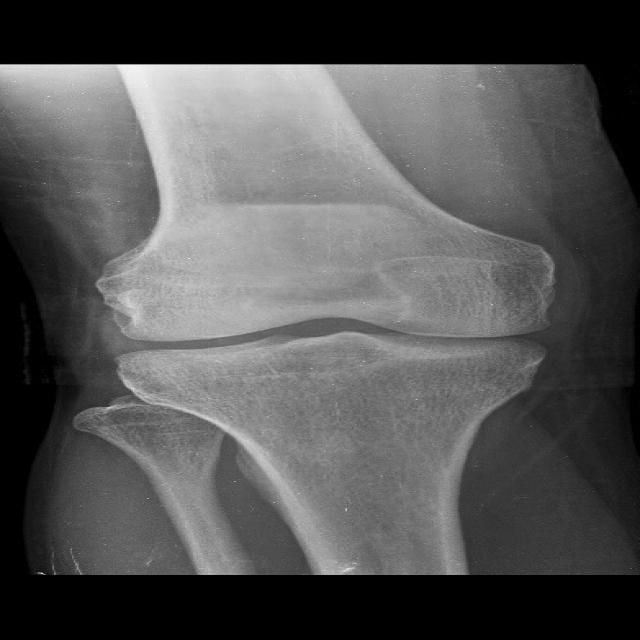osteo: (89, 249, 561, 392)
